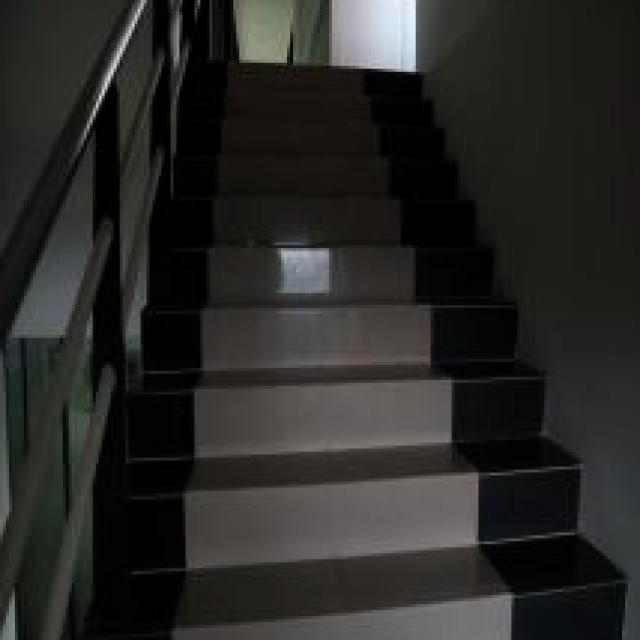upstair: (204, 70, 444, 640)
